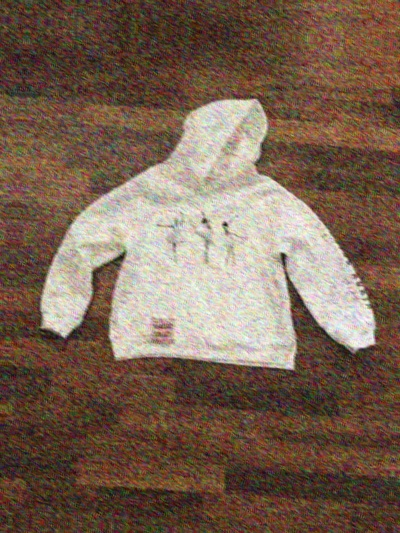Hoodie: (15, 72, 400, 398), (0, 47, 14, 373), (398, 96, 400, 422)
